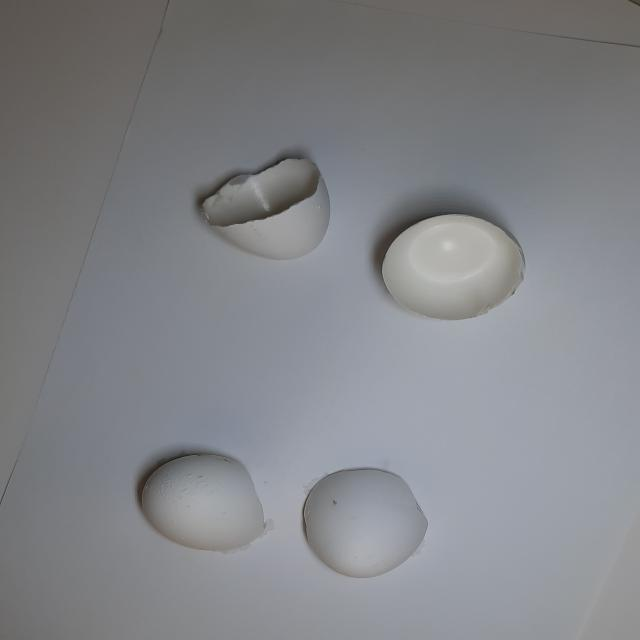egg shell: (370, 205, 533, 335), (182, 148, 344, 276), (296, 459, 442, 586), (126, 442, 278, 563)
